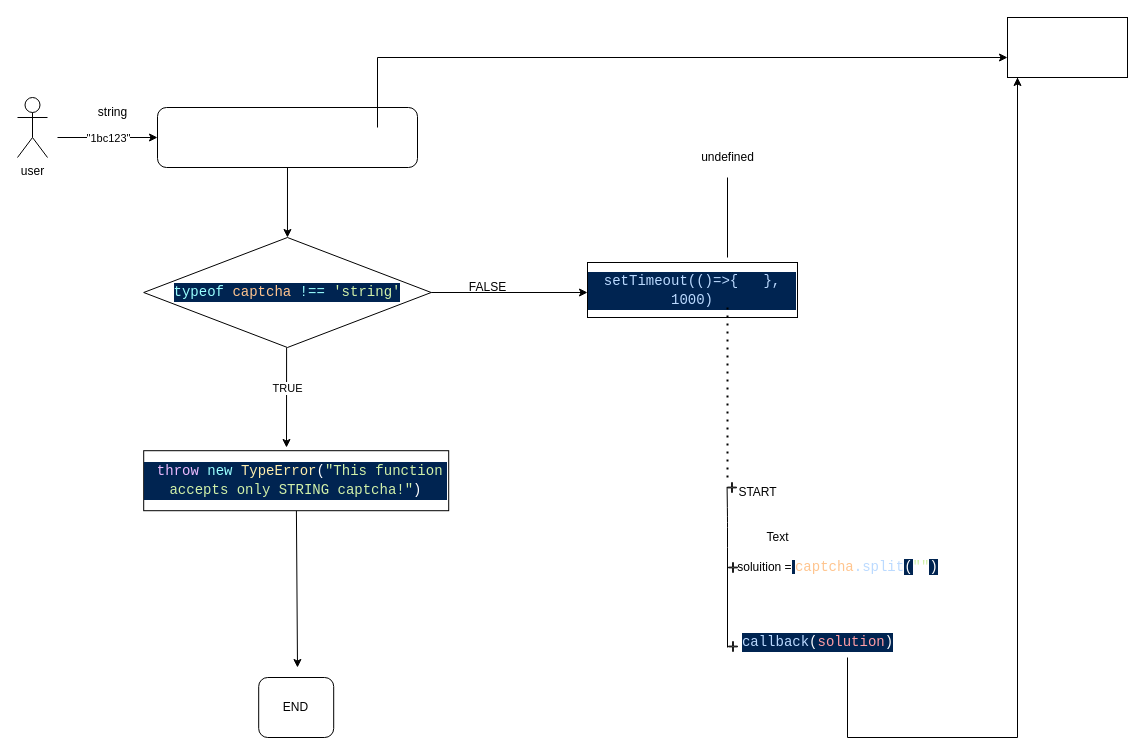
Some shapes in this 1145 by 756 pixel diagram are drawn without their labels. Each missing label, with the centre of its shape:
"breackCaptcha(captcha, callback)" goes at [287,137].
"console.log(r)" goes at [1067,47].
